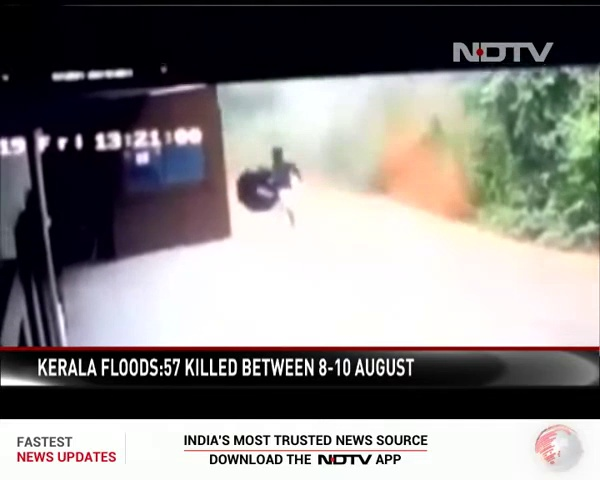person: (266, 143, 304, 224)
